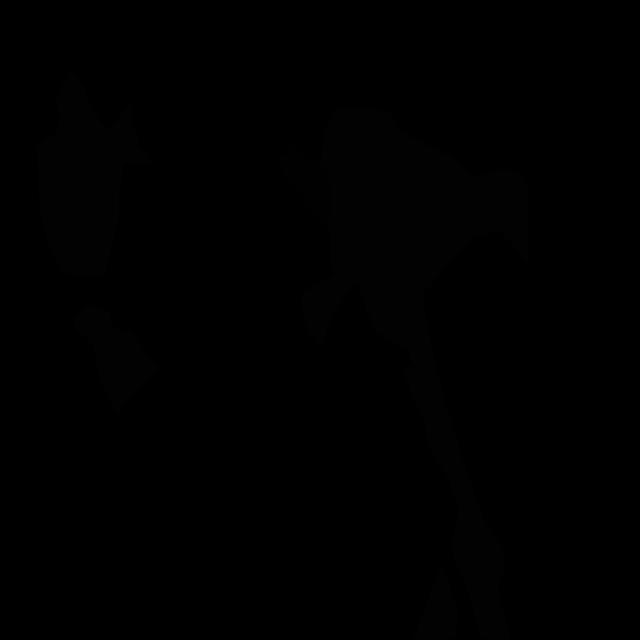cardboard: (301, 106, 529, 407), (404, 362, 511, 640), (37, 70, 120, 276), (72, 305, 162, 417), (100, 105, 152, 188), (413, 563, 458, 640)
rigid_plastic: (278, 137, 330, 237)
